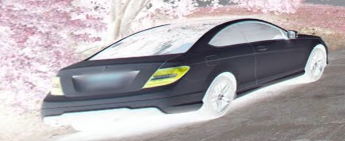car: (41, 19, 329, 123)
